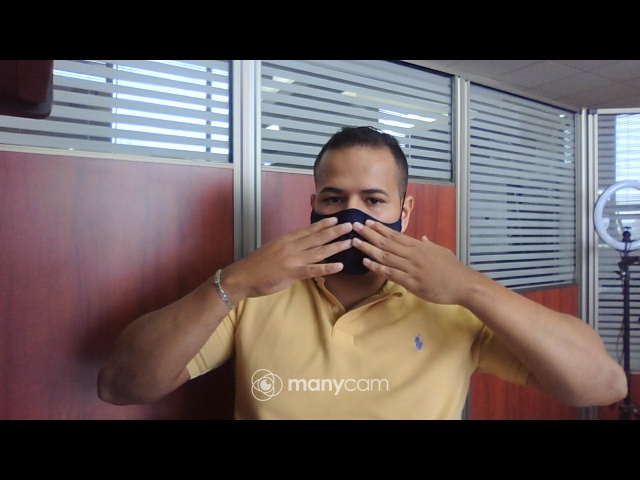Thanks: (224, 214, 482, 312)
